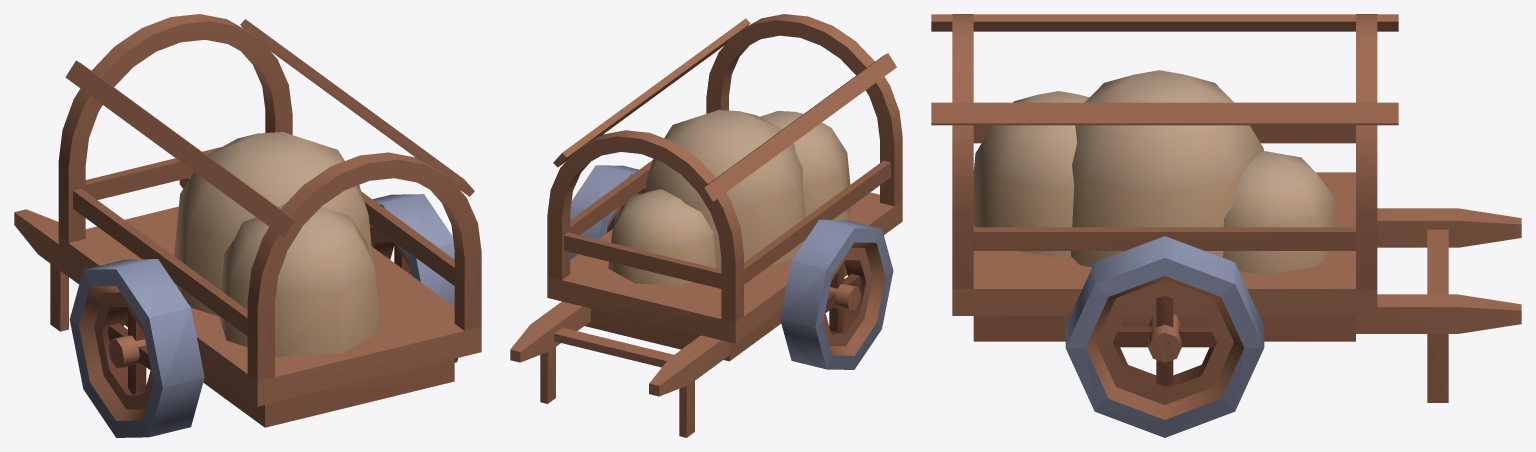
The model's file is fantasytown_cart_high.glb.
3 views of the same model, side by side, from view 1: azimuth 30°, elevation 25°; view 2: azimuth 150°, elevation 25°; view 3: azimuth 270°, elevation 25° (orthographic). The views are drawn at different scales.
Parts seen in each view (by area): view 1: fantasytown_cart_high; view 2: fantasytown_cart_high; view 3: fantasytown_cart_high.
Boxes of the visible parts, box(x1,y1,x2,y2) form: fantasytown_cart_high: box(14, 14, 481, 437); fantasytown_cart_high: box(510, 14, 902, 437); fantasytown_cart_high: box(931, 14, 1521, 437).
Size of the model in its own units: 0.893 by 0.8605 by 1.39.
